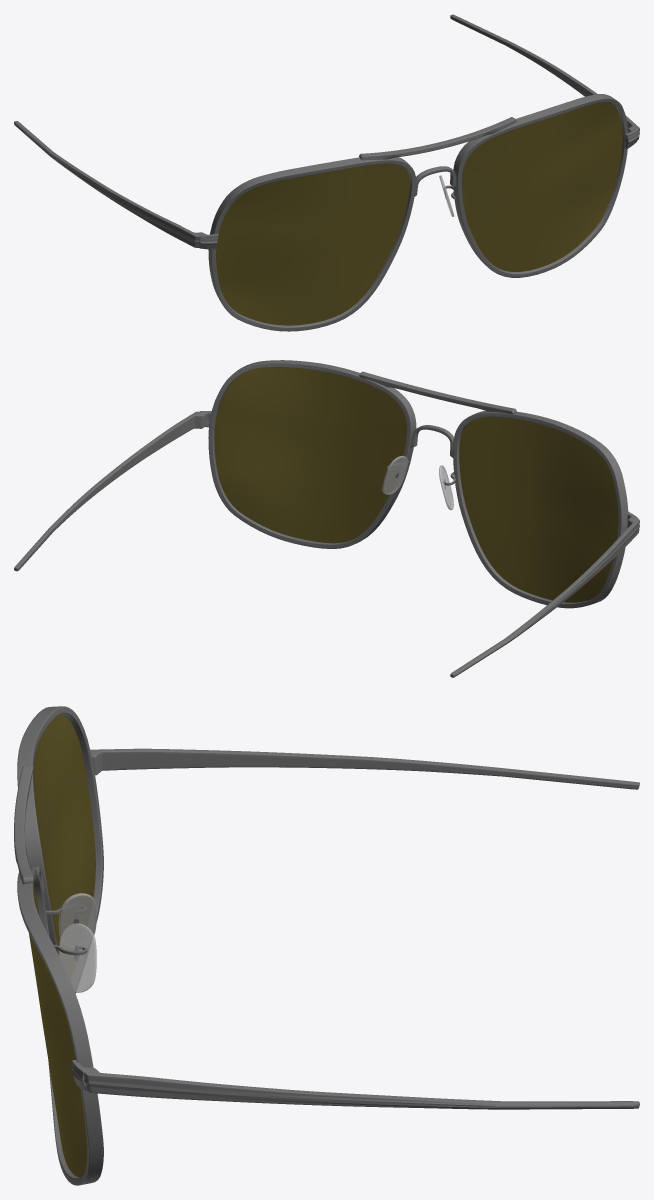
File: Chromance_cycles_ajustado.glb
3 renders of one model, top to bottom at view 1: azimuth 30°, elevation 25°; view 2: azimuth 150°, elevation 25°; view 3: azimuth 270°, elevation 25°, orthographic. The views are drawn at different scales.
Visible parts, largest first — view 1: armacao; view 2: armacao; view 3: armacao.
Part boxes in pixels (x1,y1,x2,y2): armacao: [14, 14, 639, 331]; armacao: [14, 360, 639, 677]; armacao: [14, 706, 639, 1185].
Bounding box in the file's own units: 0.157 × 0.0556 × 0.1217.
Materials: 3 (3 with a texture image).
